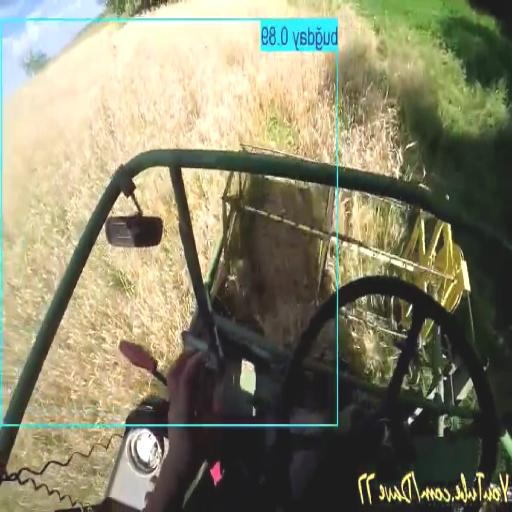bugday: (3, 22, 335, 397), (30, 168, 193, 419), (341, 90, 402, 176), (184, 170, 228, 272), (341, 194, 403, 247)
